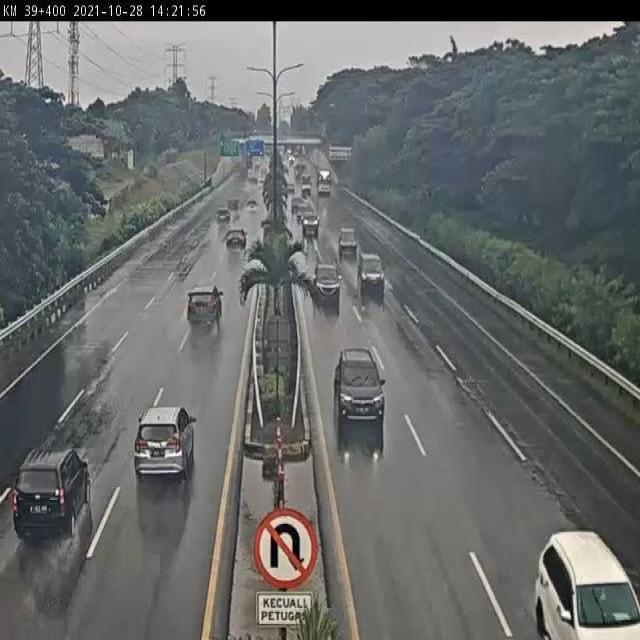car: (525, 504, 640, 640), (9, 435, 101, 556), (129, 404, 200, 489), (327, 346, 386, 426), (186, 281, 225, 335), (310, 256, 344, 307), (357, 250, 385, 290), (221, 225, 249, 256), (337, 224, 363, 256), (299, 206, 319, 233), (211, 205, 231, 224)
